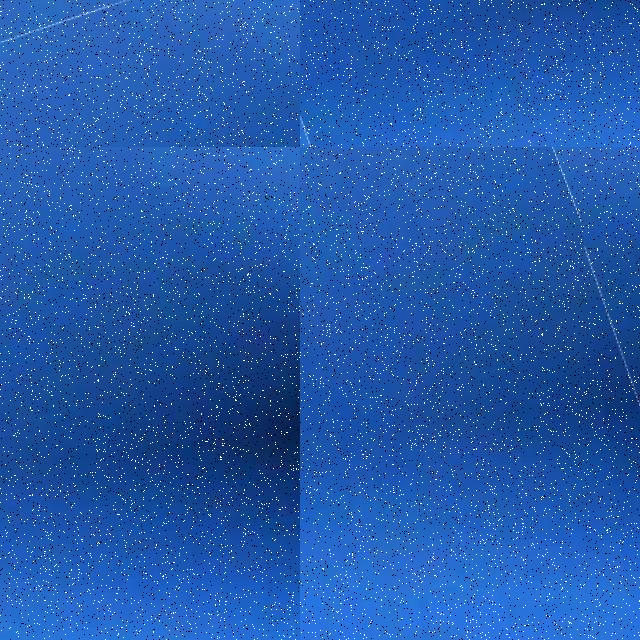drone: (300, 0, 640, 147), (0, 0, 300, 147), (558, 147, 640, 640)
